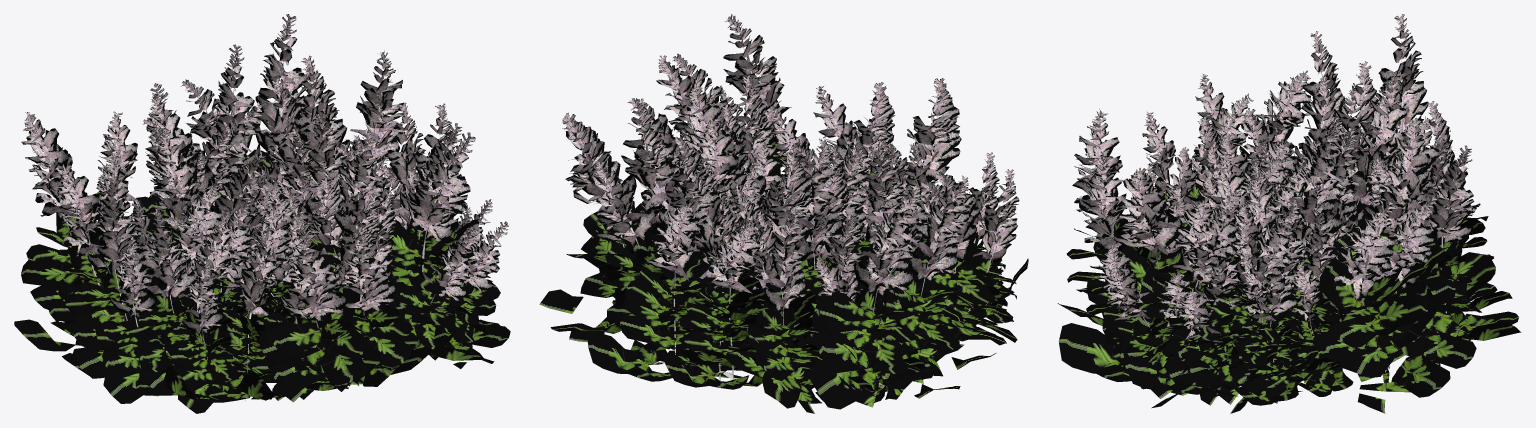
File: Saxifragaceae.glb
3 views of the same model, side by side, from view 1: azimuth 30°, elevation 25°; view 2: azimuth 150°, elevation 25°; view 3: azimuth 270°, elevation 25° (orthographic).
Visible parts, largest first — view 1: Saxifragaceae; view 2: Saxifragaceae; view 3: Saxifragaceae.
Boxes of the visible parts, <box> form: Saxifragaceae: <box>14,14,510,413</box>; Saxifragaceae: <box>539,14,1028,413</box>; Saxifragaceae: <box>1057,14,1521,413</box>.
Size of the model in its own units: 3.16 by 1.88 by 3.13.
Materials: 4 (3 with a texture image).
